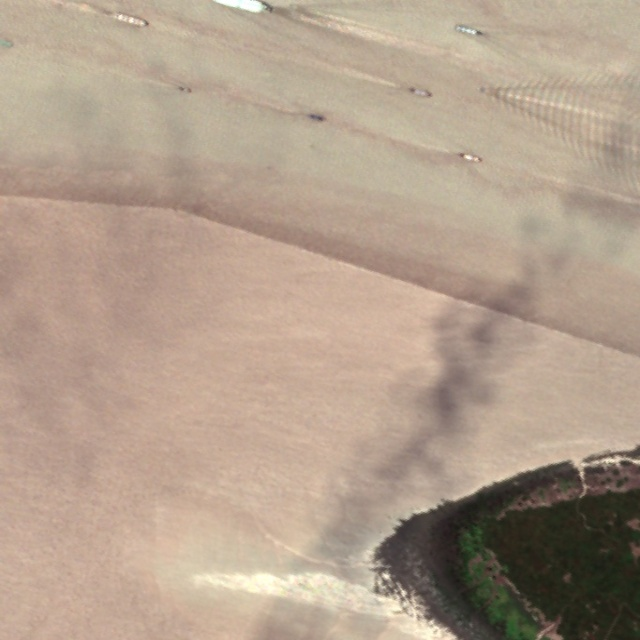wake: (464, 44, 631, 162)
